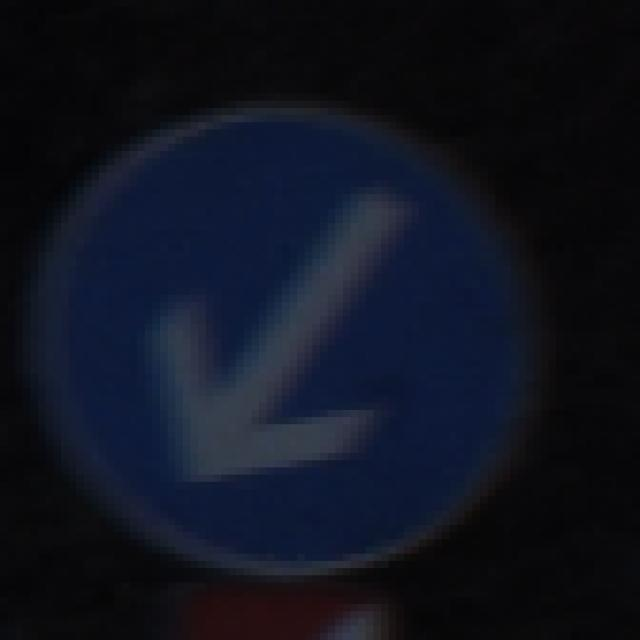compulsary keep left: (50, 113, 528, 573)
